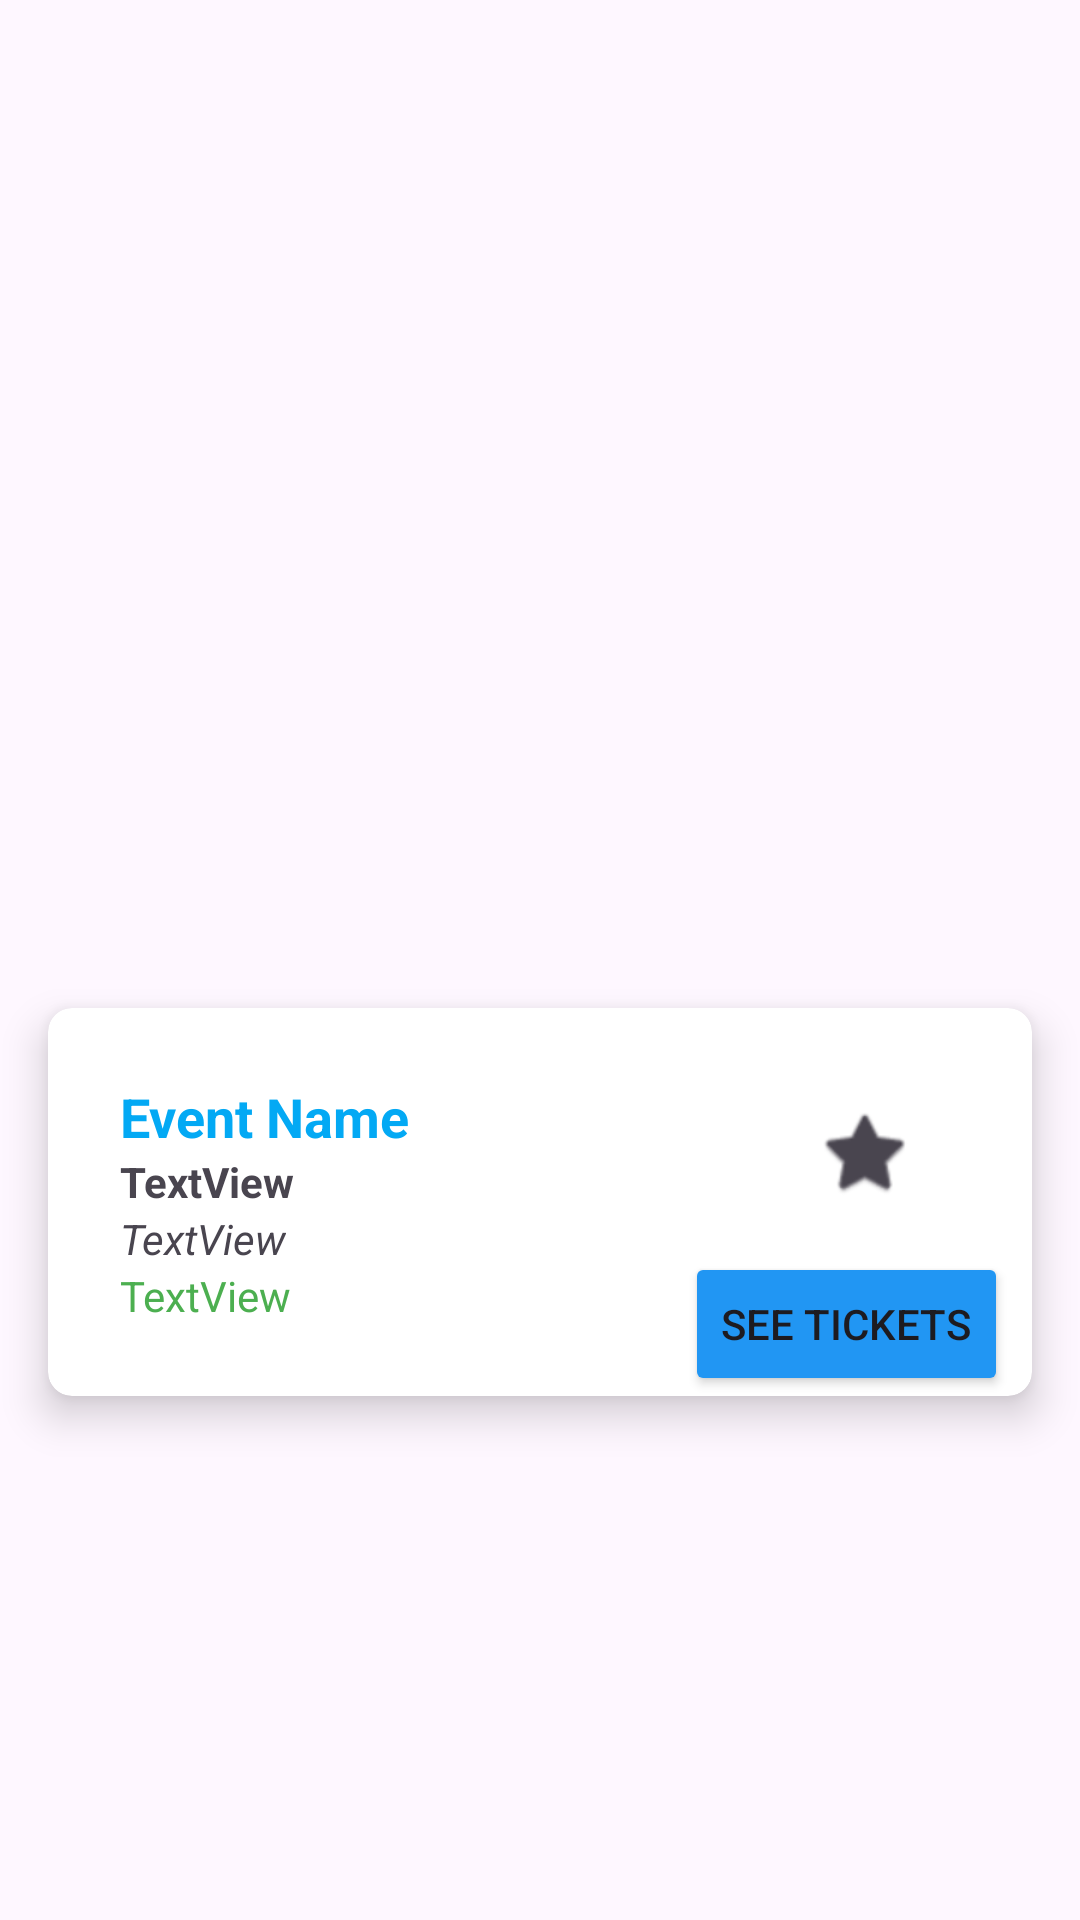

Where icons sit on this 1080×1920 app screen, as (x1, y1, x2, y2):
star: (825, 1114, 905, 1191)
